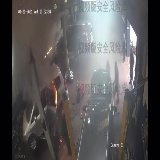fire: (52, 81, 60, 110)
